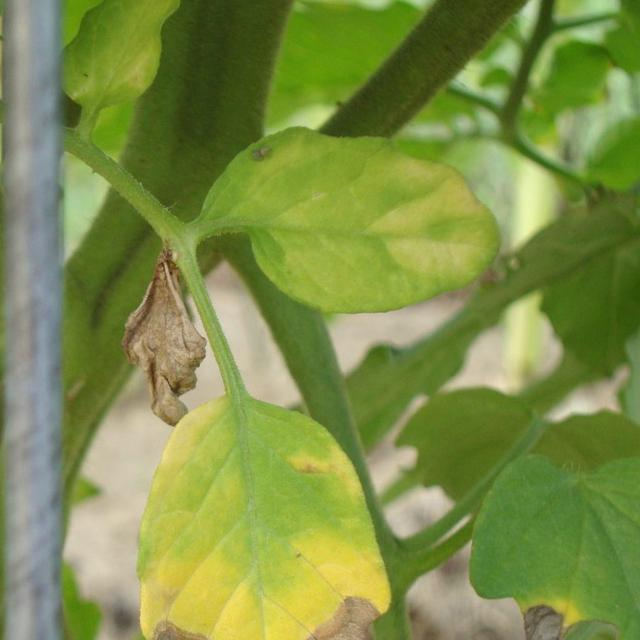Tomato Early blight leaf: (130, 387, 380, 640)
